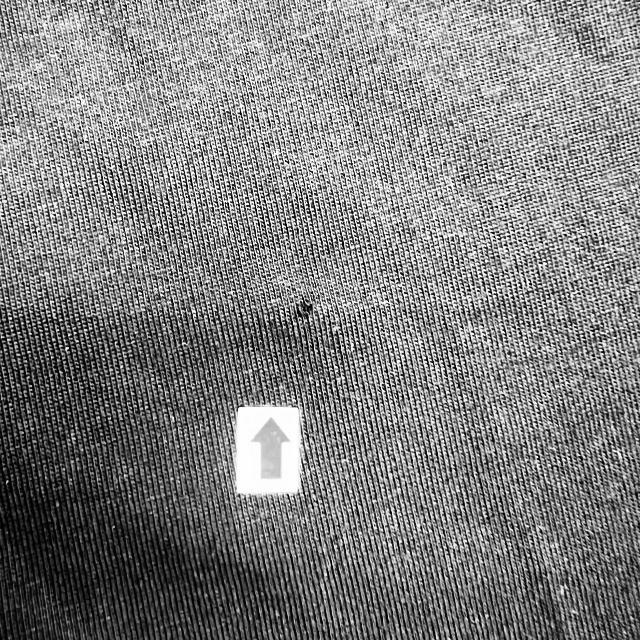Hole: (290, 293, 318, 328)
